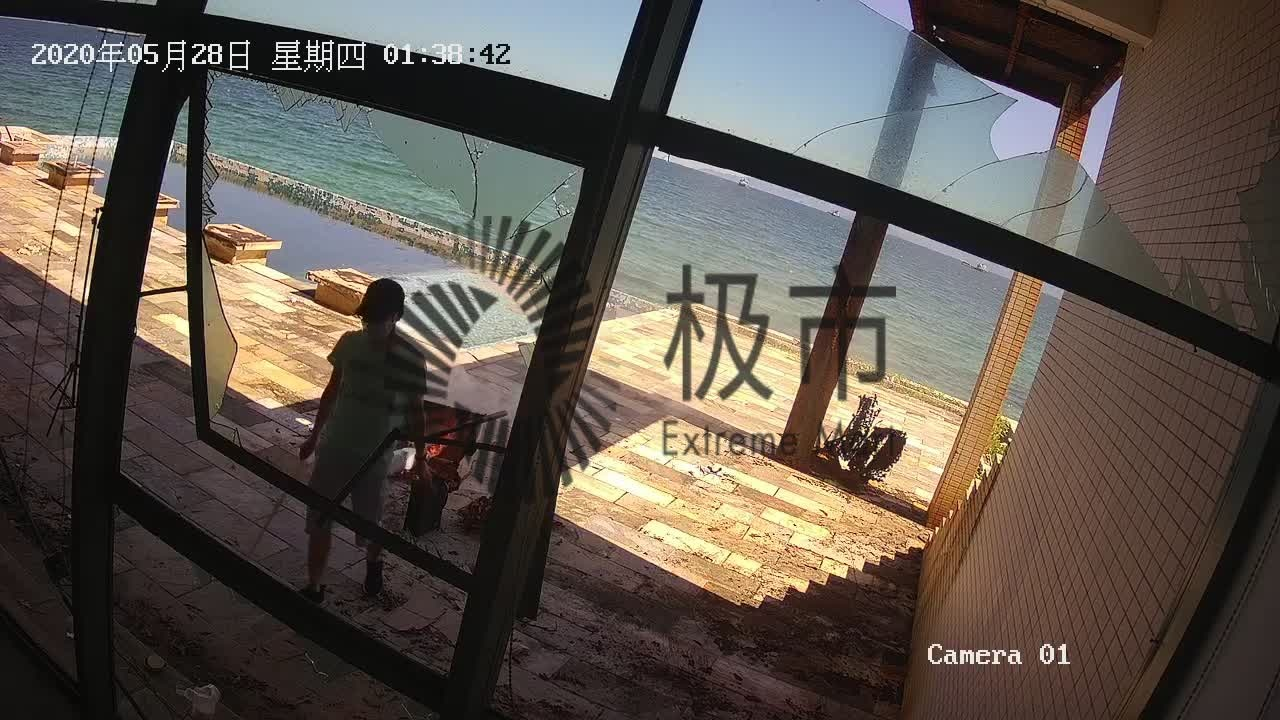fire: (422, 424, 458, 464)
